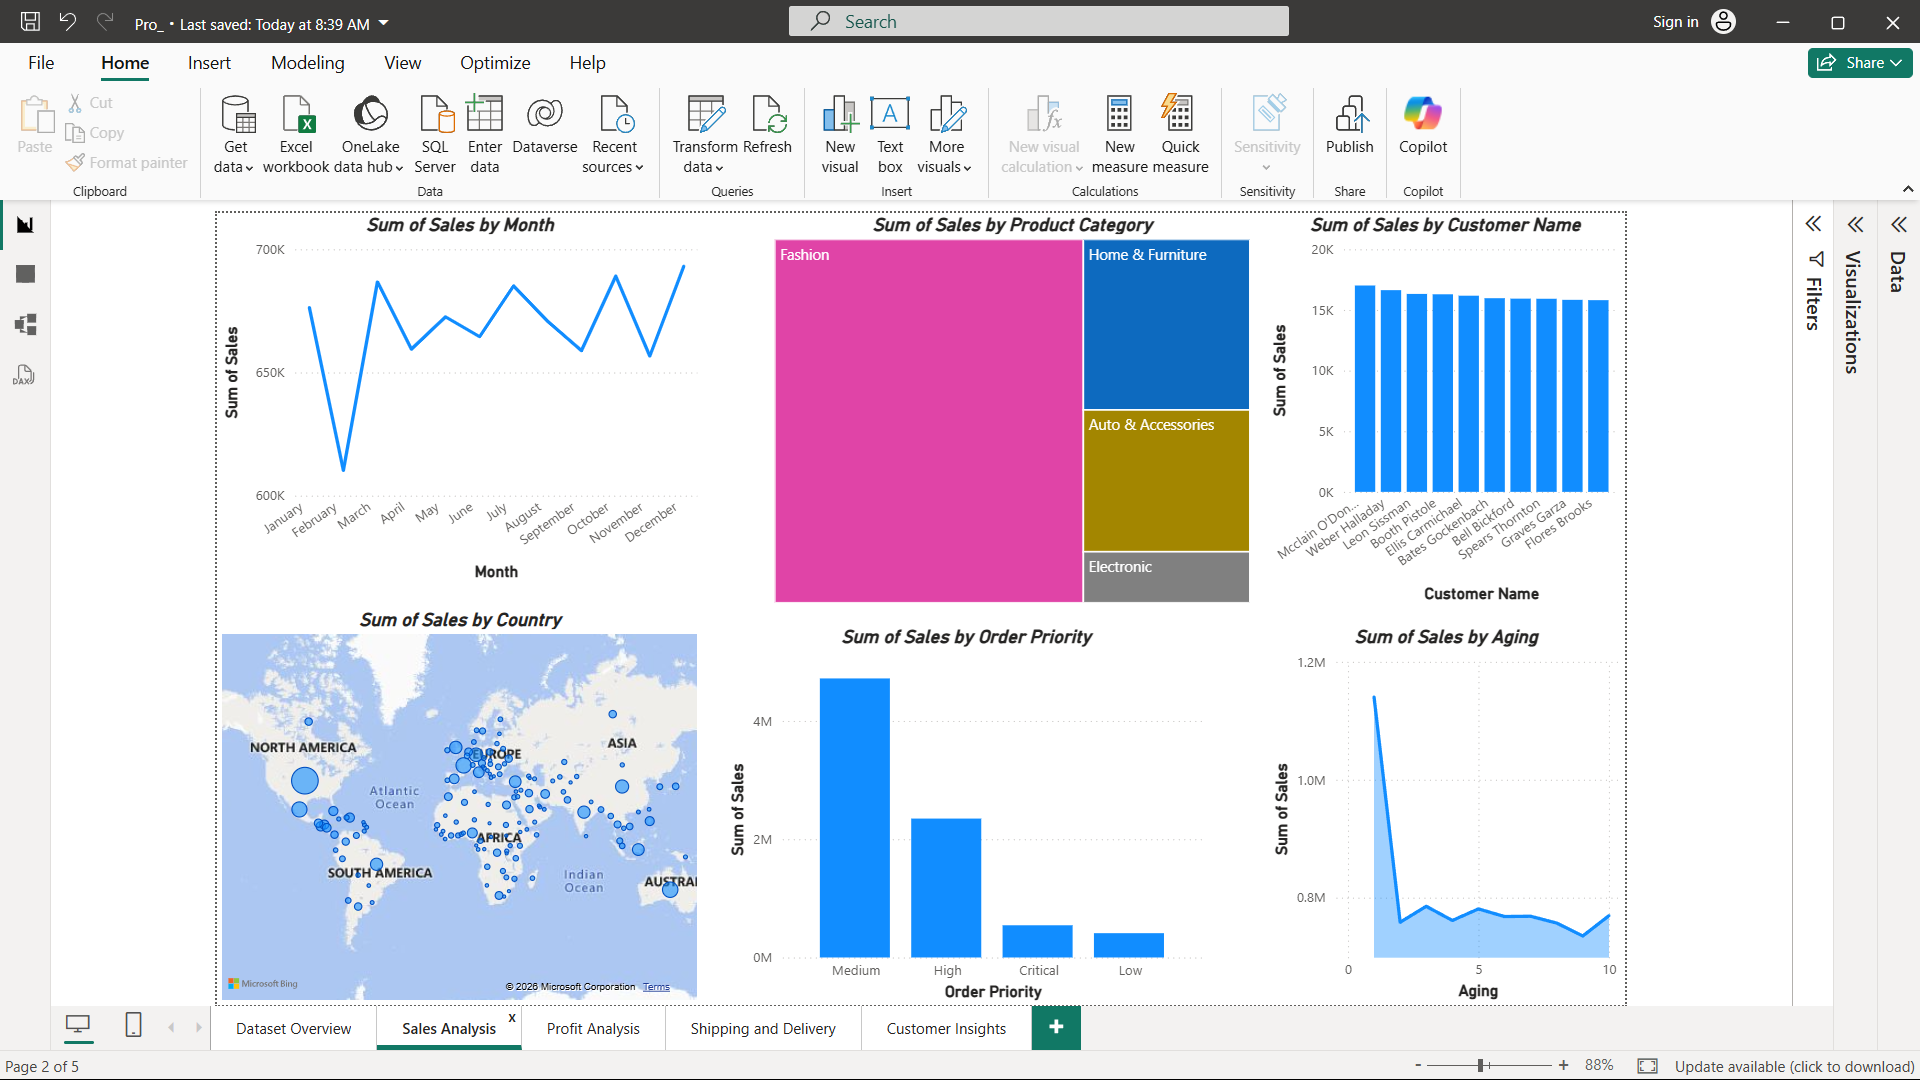

What the dashboard file says about the page in this screenshot:
{"tool":"powerbi","page":{"name":"Sales Analysis","canvas":[1280,720],"ordinal":1},"visuals":[{"type":"lineChart","fields":{"Category":["Sheet1.Order Date.Variation.Date Hierarchy.Month"],"Y":["Sum(Sheet1.Sales)"]},"box":[0,0,441.9,338.9],"z":0},{"type":"map","fields":{"Size":["Sum(Sheet1.Sales)"],"Category":["Sheet1.Country"]},"box":[0,359.5,441.9,360.9],"z":1000},{"type":"treemap","fields":{"Group":["Sheet1.Product Category"],"Values":["Sum(Sheet1.Sales)"]},"box":[502.2,0,441.9,359.5],"z":2000},{"type":"columnChart","fields":{"Category":["Sheet1.Customer Name"],"Y":["Sum(Sheet1.Sales)"]},"box":[953.7,0,326.6,359.5],"z":3000},{"type":"columnChart","fields":{"Category":["Sheet1.Order Priority"],"Y":["Sum(Sheet1.Sales)"]},"box":[459.7,374.6,441.9,345.8],"z":4000},{"type":"stackedAreaChart","fields":{"Category":["Sheet1.Aging"],"Y":["Sum(Sheet1.Sales)"]},"box":[954,375,326,345],"z":5000}]}

Visuals, with their boxes on the page's 1280x720 design canvas (x1, y1, x2, y2). These are canvas units, not pixel positions in the 1920x1080 screenshot, which may show the page scaled, cropped or inside an application window:
lineChart - Sheet1.Order Date.Variation.Date Hierarchy.Month x Sum(Sheet1.Sales): bbox(0, 0, 442, 339)
map - Sum(Sheet1.Sales) x Sheet1.Country: bbox(0, 360, 442, 720)
treemap - Sheet1.Product Category x Sum(Sheet1.Sales): bbox(502, 0, 944, 360)
columnChart - Sheet1.Customer Name x Sum(Sheet1.Sales): bbox(954, 0, 1280, 360)
columnChart - Sheet1.Order Priority x Sum(Sheet1.Sales): bbox(460, 375, 902, 720)
stackedAreaChart - Sheet1.Aging x Sum(Sheet1.Sales): bbox(954, 375, 1280, 720)
